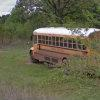Bus: (24, 22, 98, 72)
